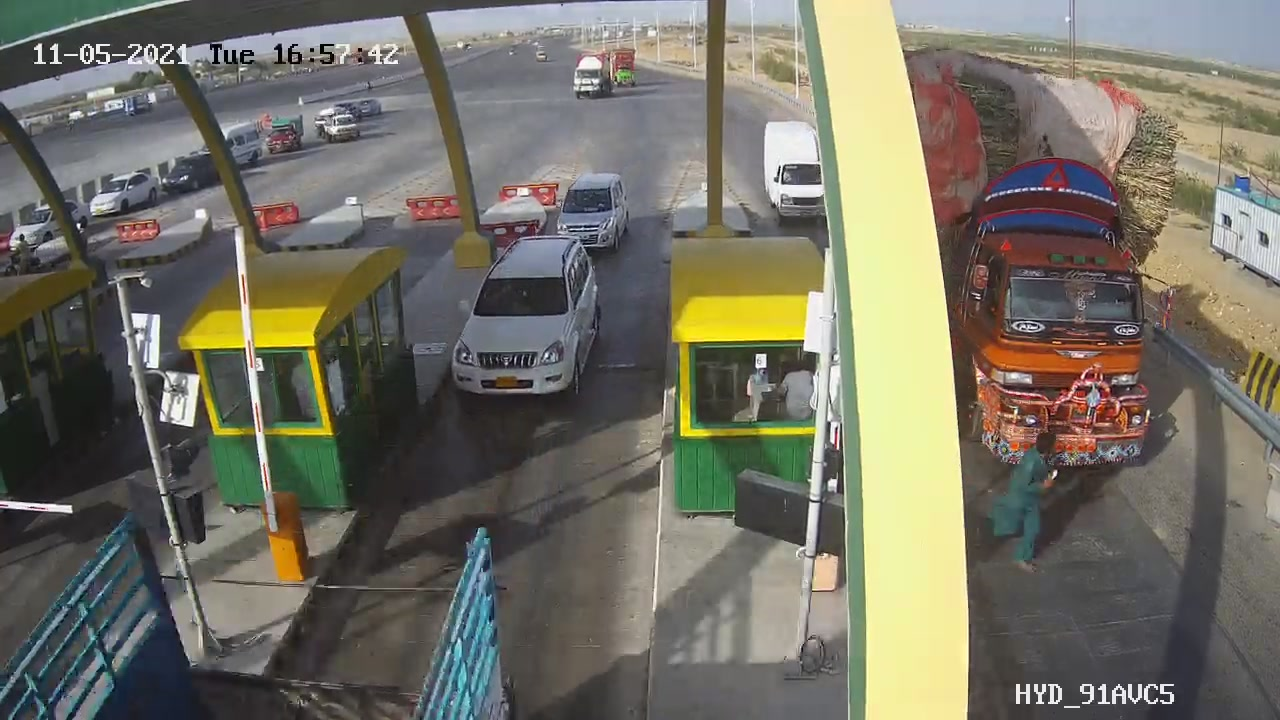F1: (432, 221, 631, 412), (540, 163, 645, 264)
